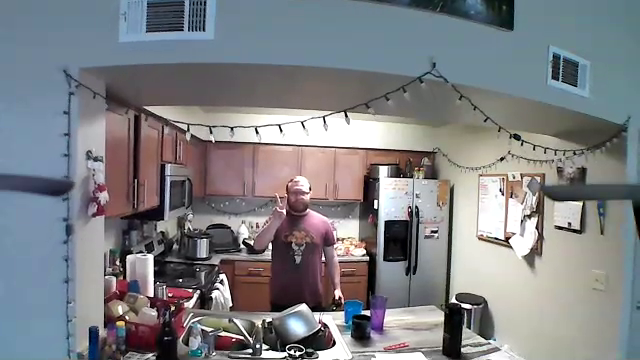peace: (268, 191, 293, 228)
